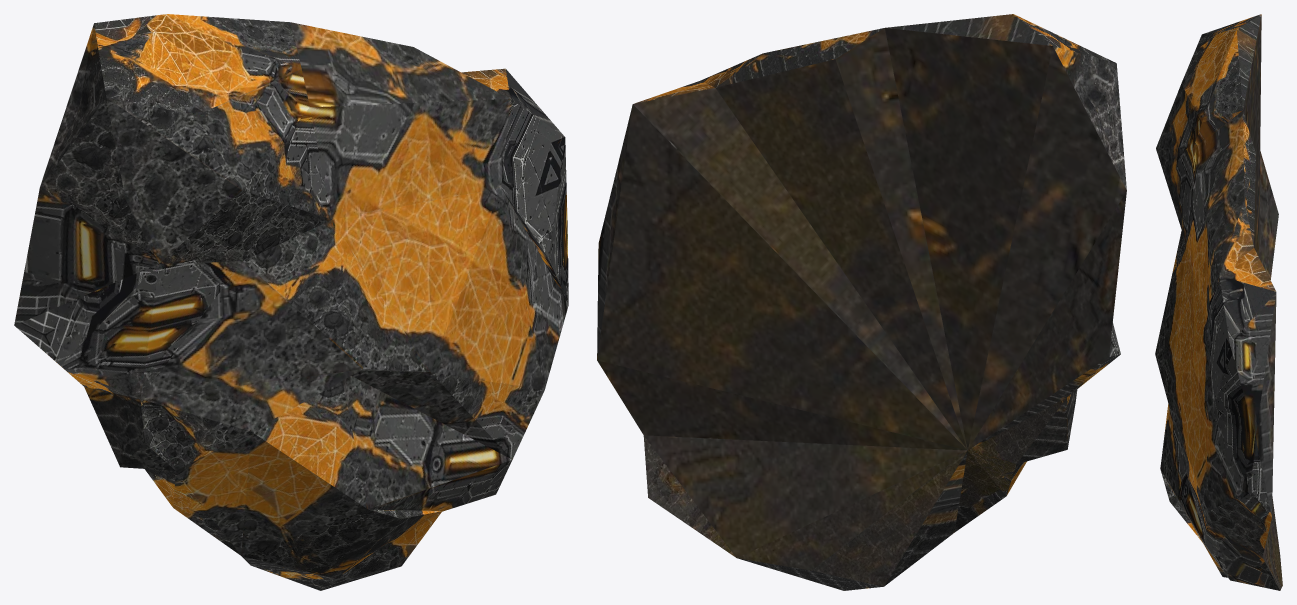
File: ore-gold.glb
3 renders of one model, left to right at view 1: azimuth 30°, elevation 25°; view 2: azimuth 150°, elevation 25°; view 3: azimuth 270°, elevation 25°, orthographic. The views are drawn at different scales.
Parts seen in each view (by area): view 1: output_unwrapped; view 2: output_unwrapped; view 3: output_unwrapped.
Part boxes in pixels (x1,y1,x2,y2): output_unwrapped: (14,14,568,590); output_unwrapped: (597,14,1126,590); output_unwrapped: (1155,14,1282,590).
Bounding box in the file's own units: 1.64 × 1.81 × 0.4366.
1 material, 1 textured.
